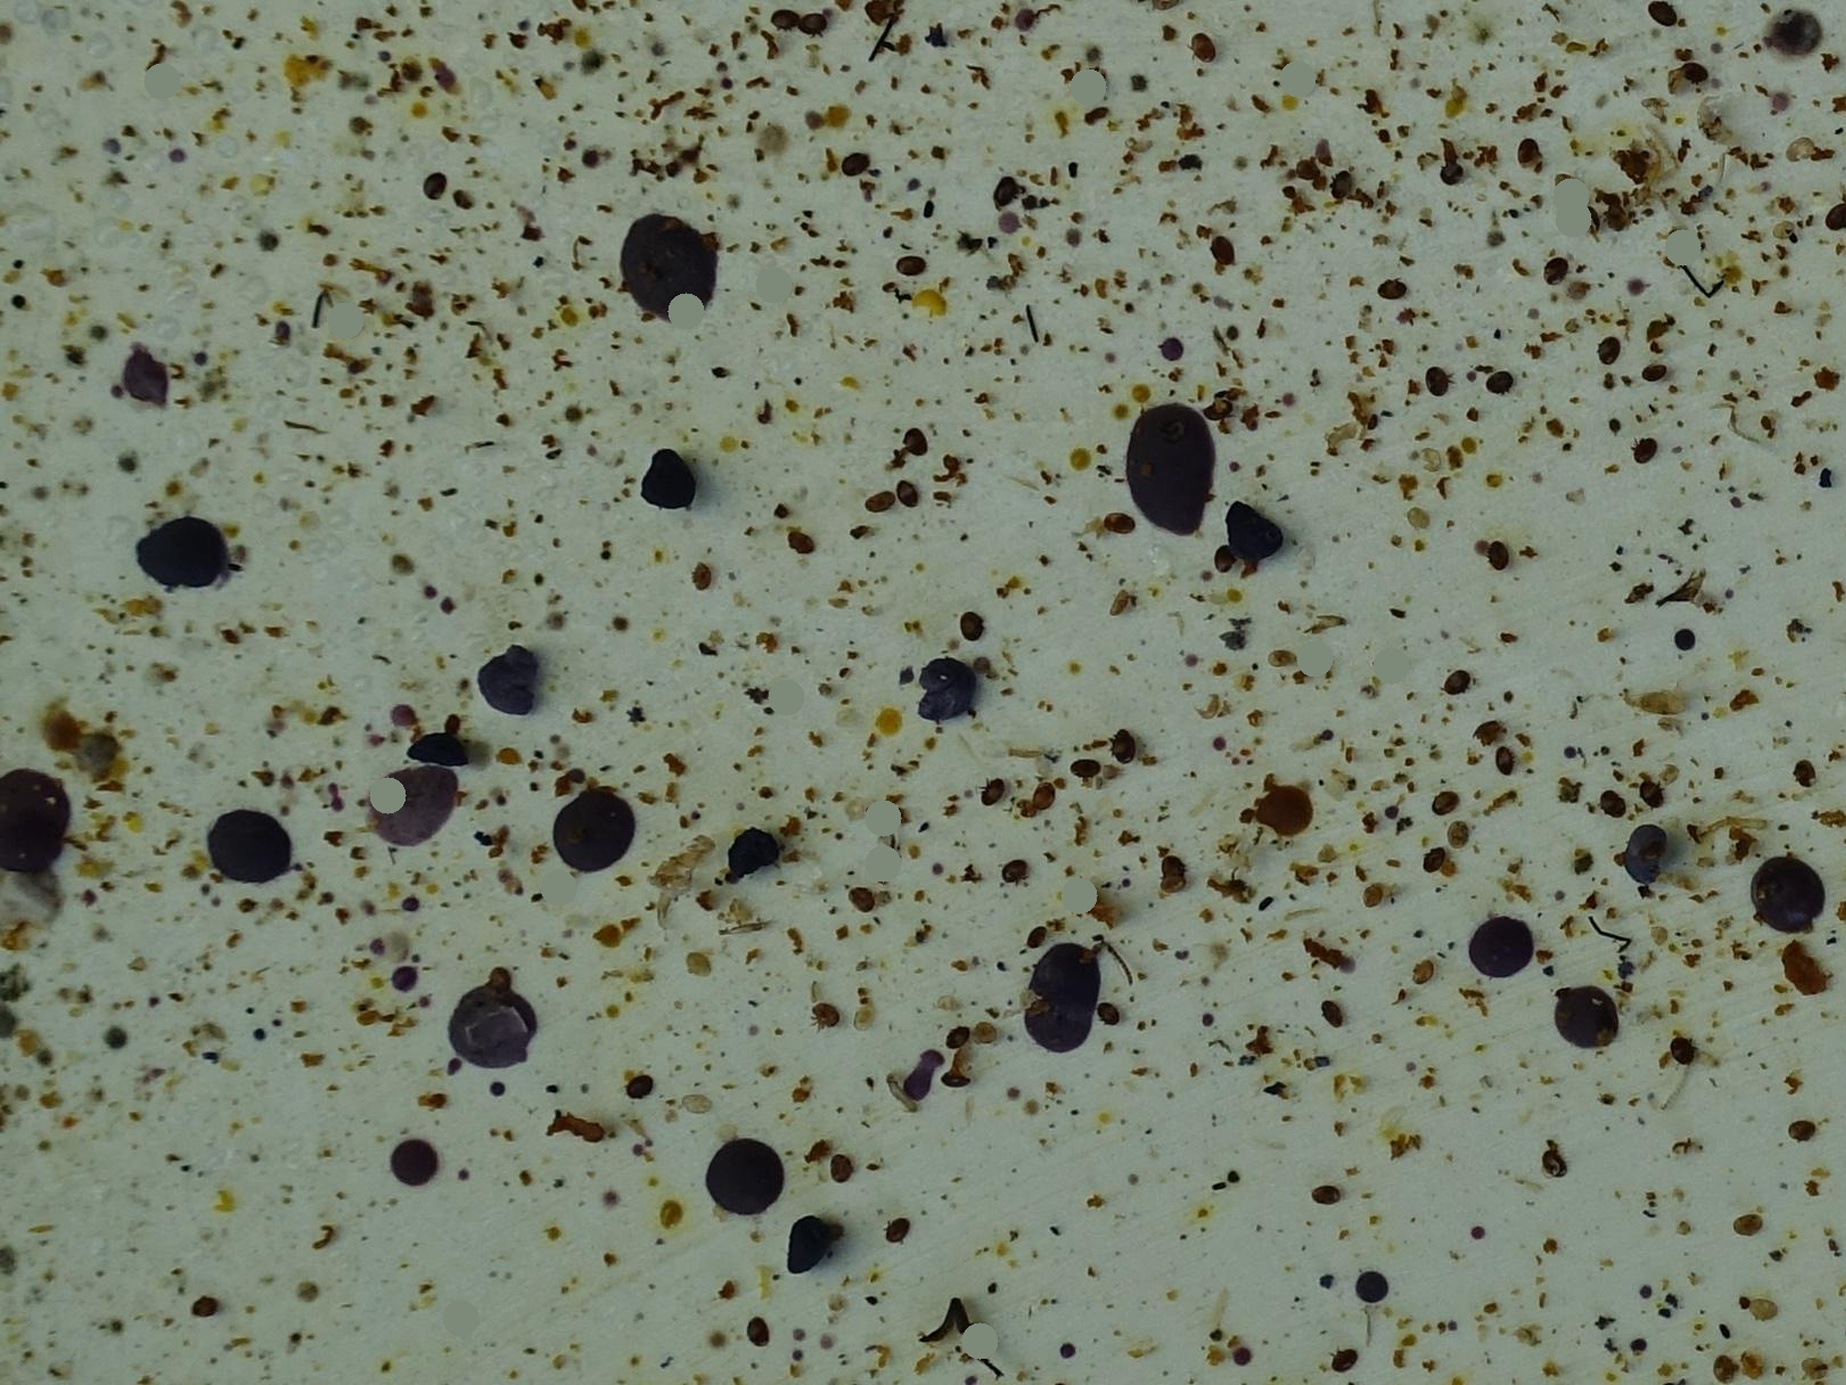Varroa: (1596, 195, 1637, 236), (979, 778, 1005, 806), (1330, 170, 1357, 196), (1594, 338, 1621, 364), (1319, 1001, 1346, 1027), (1296, 157, 1322, 183), (1597, 789, 1622, 816), (691, 563, 716, 588), (1076, 754, 1101, 778), (1210, 393, 1235, 418), (946, 1065, 970, 1090), (1447, 825, 1472, 850), (948, 1018, 972, 1045), (1383, 276, 1407, 303), (1162, 861, 1186, 886), (1493, 749, 1514, 775), (852, 887, 876, 911), (1424, 848, 1447, 871), (1712, 1356, 1735, 1379), (826, 1152, 850, 1176), (626, 1074, 649, 1097), (874, 487, 898, 511), (774, 7, 797, 31), (484, 970, 508, 994), (1543, 1151, 1565, 1176), (1794, 759, 1815, 784), (996, 177, 1018, 202), (1215, 546, 1239, 567), (816, 1002, 838, 1026), (1413, 959, 1434, 982), (1330, 1350, 1351, 1373), (1442, 161, 1463, 185), (1682, 63, 1703, 86), (1520, 141, 1542, 164), (905, 431, 927, 452), (1031, 786, 1053, 807), (1098, 1002, 1120, 1024), (1641, 781, 1663, 803), (799, 12, 820, 33), (1487, 543, 1509, 563), (1447, 671, 1468, 692), (962, 612, 982, 634), (887, 1218, 908, 1240), (1488, 371, 1509, 393), (1737, 1213, 1759, 1234), (898, 484, 918, 506), (793, 532, 815, 553), (1117, 736, 1138, 757), (845, 154, 866, 175), (1005, 861, 1026, 882), (1316, 1183, 1337, 1203), (1545, 259, 1565, 279), (1673, 1040, 1693, 1061), (1027, 927, 1047, 947), (196, 1295, 215, 1317), (751, 1320, 770, 1341), (1792, 1119, 1811, 1139), (1637, 439, 1655, 460), (1437, 791, 1456, 812), (1429, 371, 1447, 391), (1196, 36, 1215, 57), (1215, 239, 1234, 259), (425, 175, 444, 195), (1364, 885, 1383, 905), (1647, 361, 1664, 383), (903, 255, 921, 274), (1111, 512, 1129, 531)
